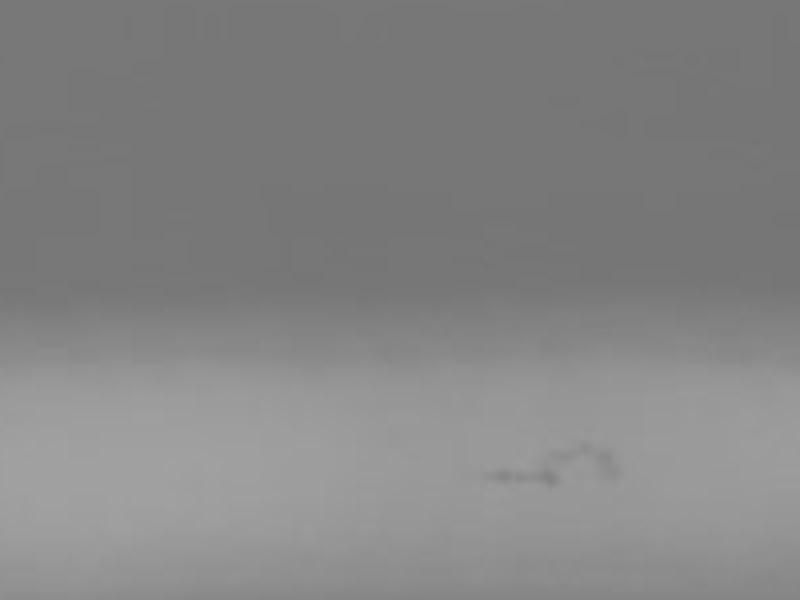defect: (592, 450, 625, 487), (522, 466, 558, 485), (488, 465, 516, 485), (573, 434, 600, 454), (551, 444, 571, 462)
